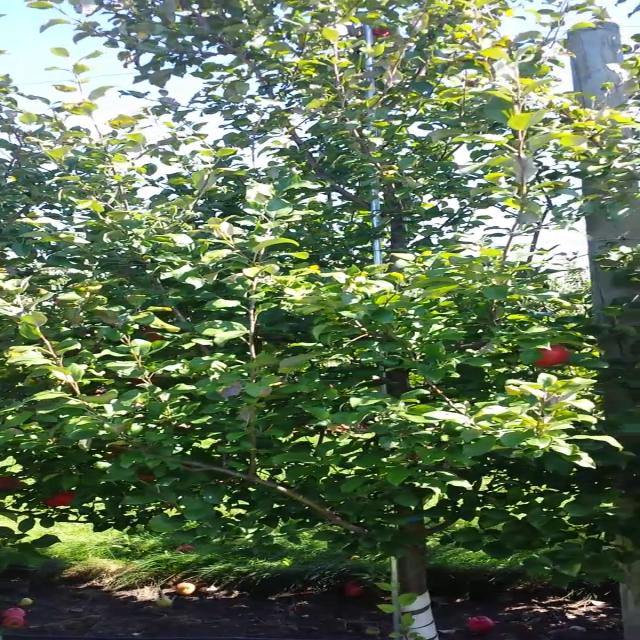apple: (530, 342, 570, 370), (137, 326, 163, 339), (0, 477, 21, 492), (54, 492, 74, 506), (43, 498, 65, 508), (372, 28, 390, 38), (138, 473, 157, 481)
